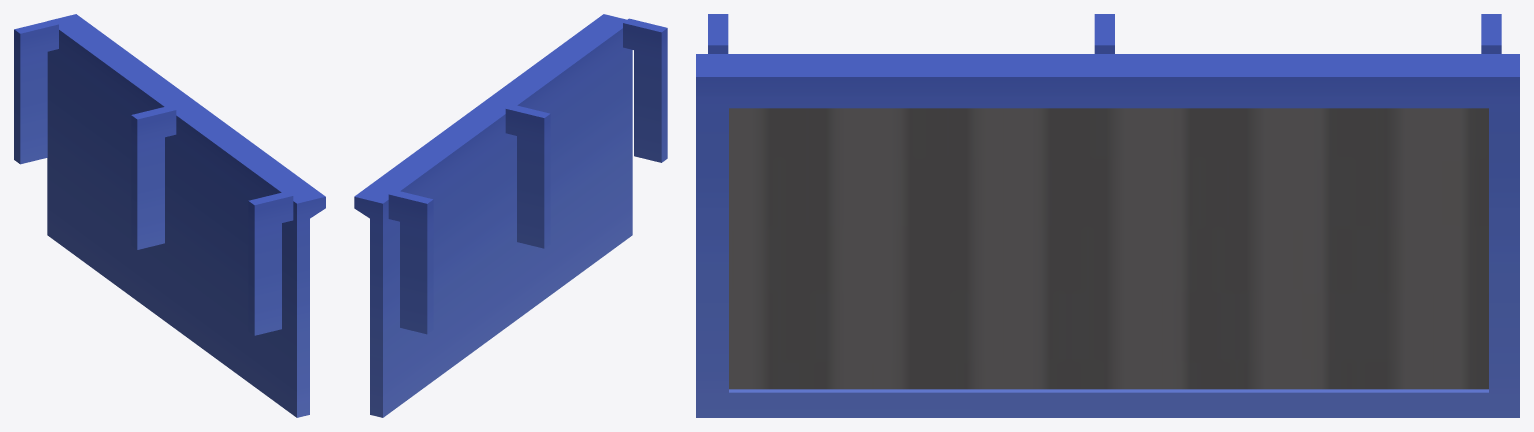
Rendered from SignProp_2_B_1.fbx.
3 renders of one model, left to right at view 1: azimuth 30°, elevation 25°; view 2: azimuth 150°, elevation 25°; view 3: azimuth 270°, elevation 25°, orthographic. The views are drawn at different scales.
Parts seen in each view (by area): view 1: SignProp_2_B_1; view 2: SignProp_2_B_1; view 3: SignProp_2_B_1.
Part boxes in pixels (x1,y1,x2,y2): SignProp_2_B_1: (14, 14, 325, 417); SignProp_2_B_1: (354, 14, 667, 417); SignProp_2_B_1: (696, 14, 1519, 417).
Size of the model in its own units: 20.96 by 64.95 by 134.
